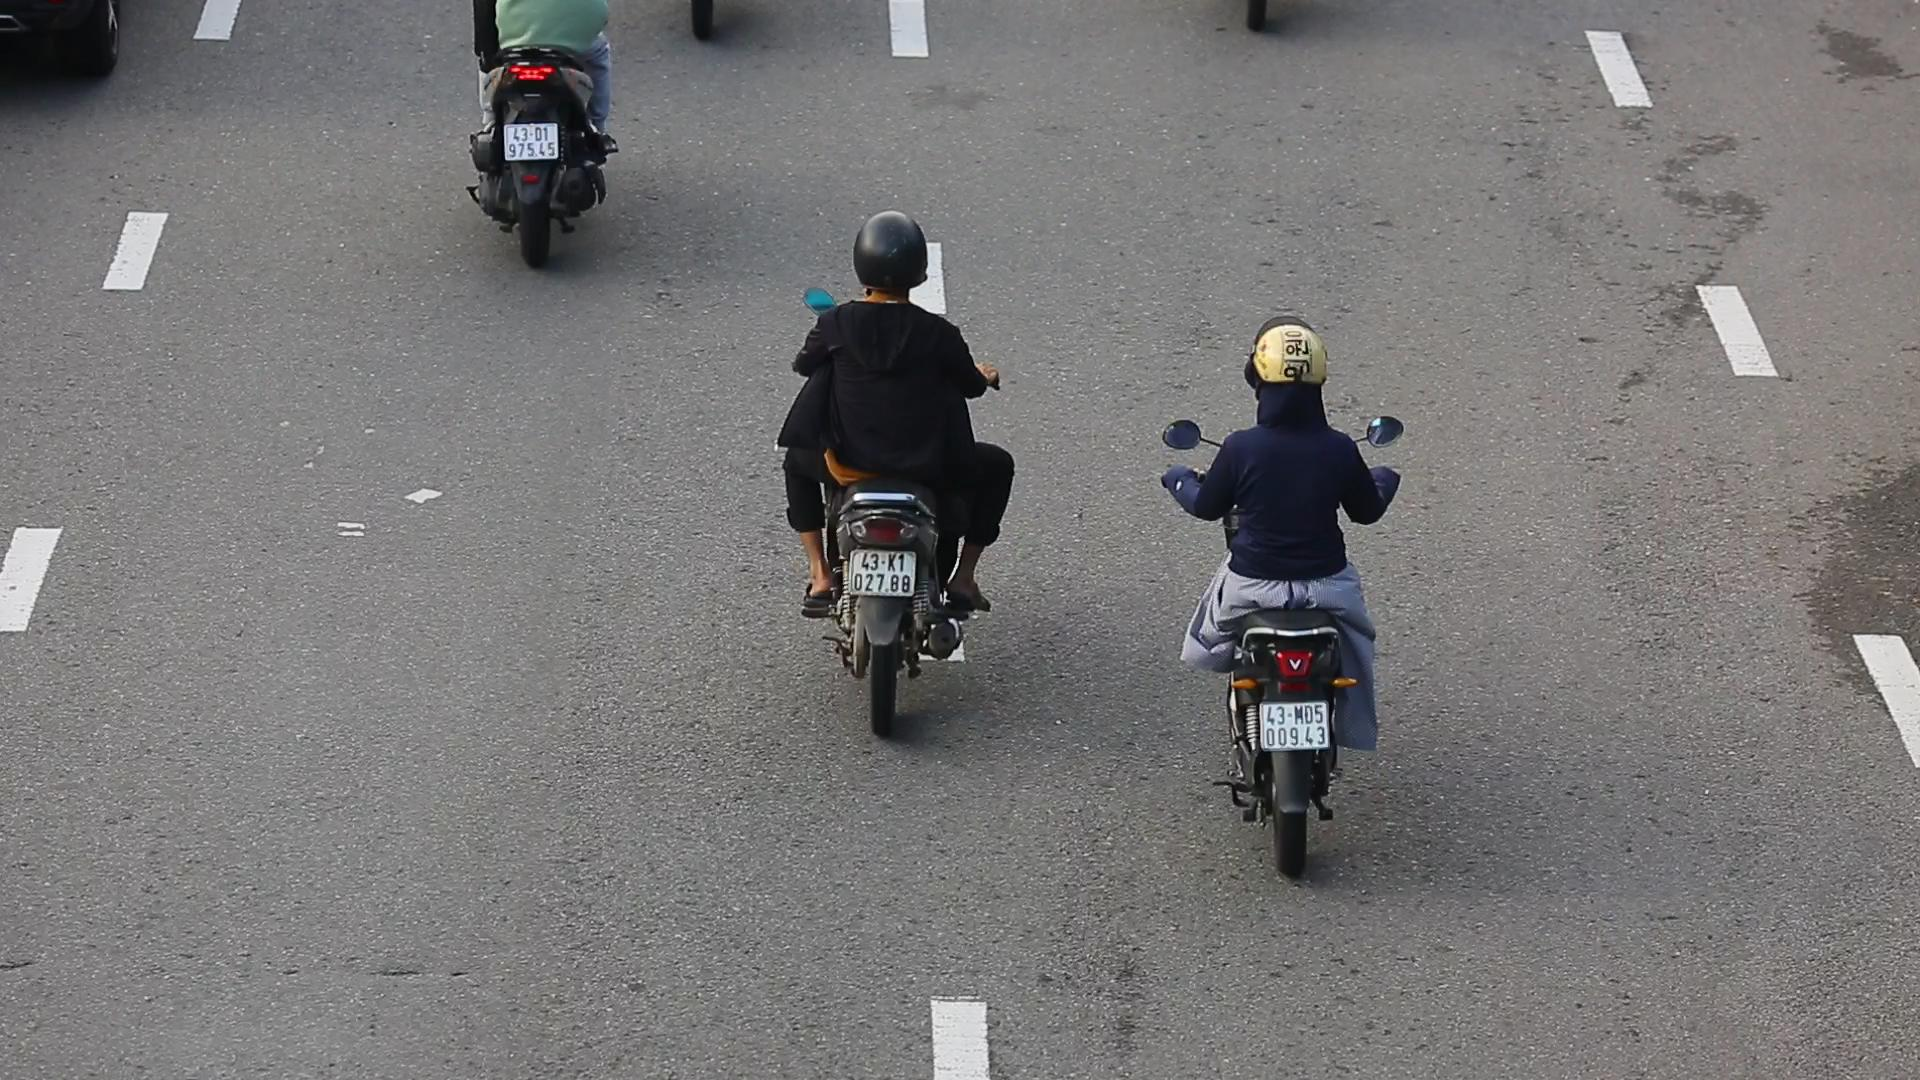motobike: (1153, 309, 1400, 885), (766, 211, 1025, 729)
